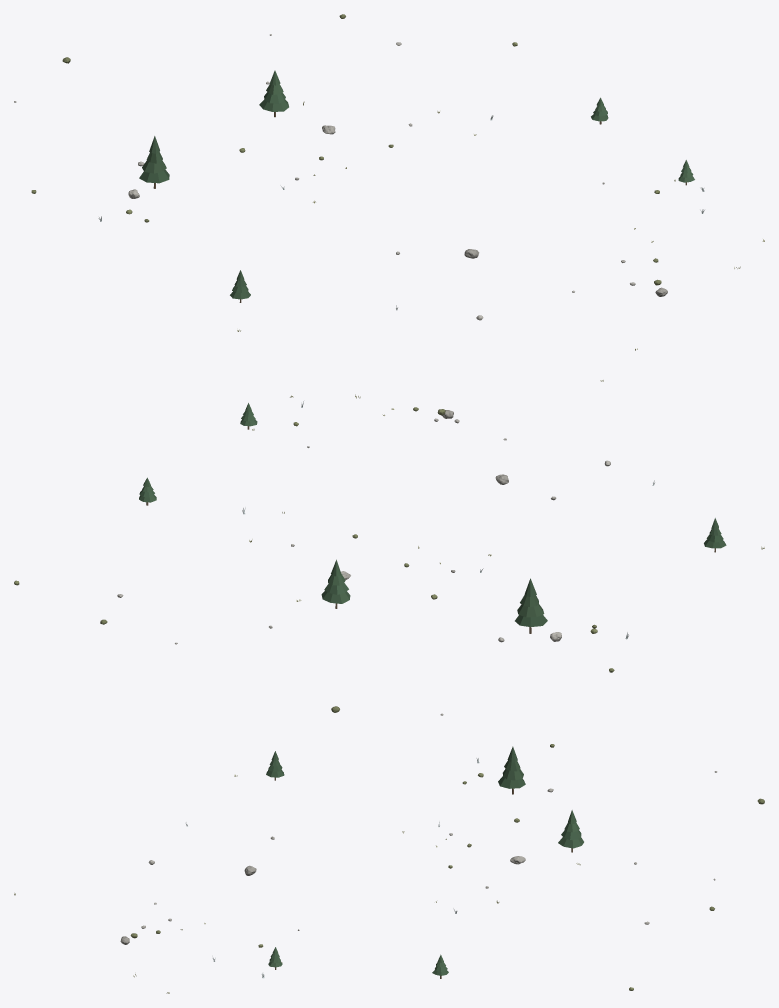
The model's file is coast_land_scatter_c09_19.glb.
3 views of the same model, one above another, from view 1: azimuth 30°, elevation 25°; view 2: azimuth 150°, elevation 25°; view 3: azimuth 270°, elevation 25° (orthographic). The views are drawn at different scales.
Visible parts, largest first — view 1: coast_land_scatter_c09_19; view 2: coast_land_scatter_c09_19; view 3: coast_land_scatter_c09_19.
Part boxes in pixels (x1,y1,x2,y2): coast_land_scatter_c09_19: (14,14,764,350); coast_land_scatter_c09_19: (14,380,764,715); coast_land_scatter_c09_19: (14,744,764,993).
Size of the model in its own units: 179 by 25.95 by 243.
